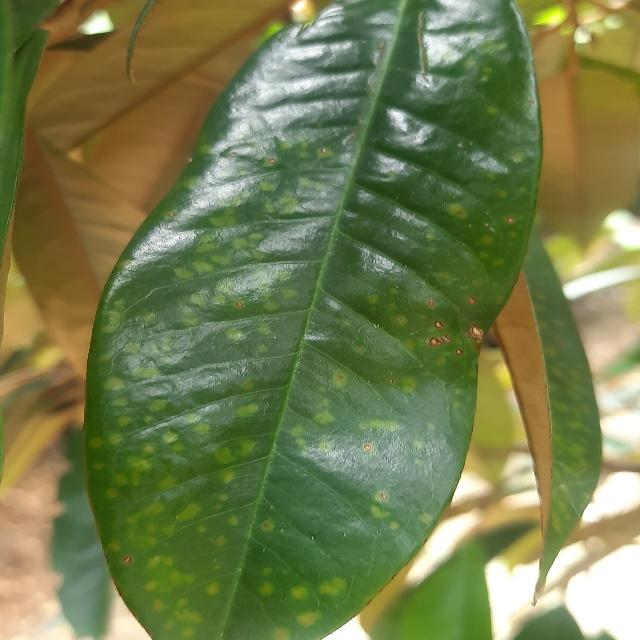Leaf Spot: (79, 0, 547, 640)
